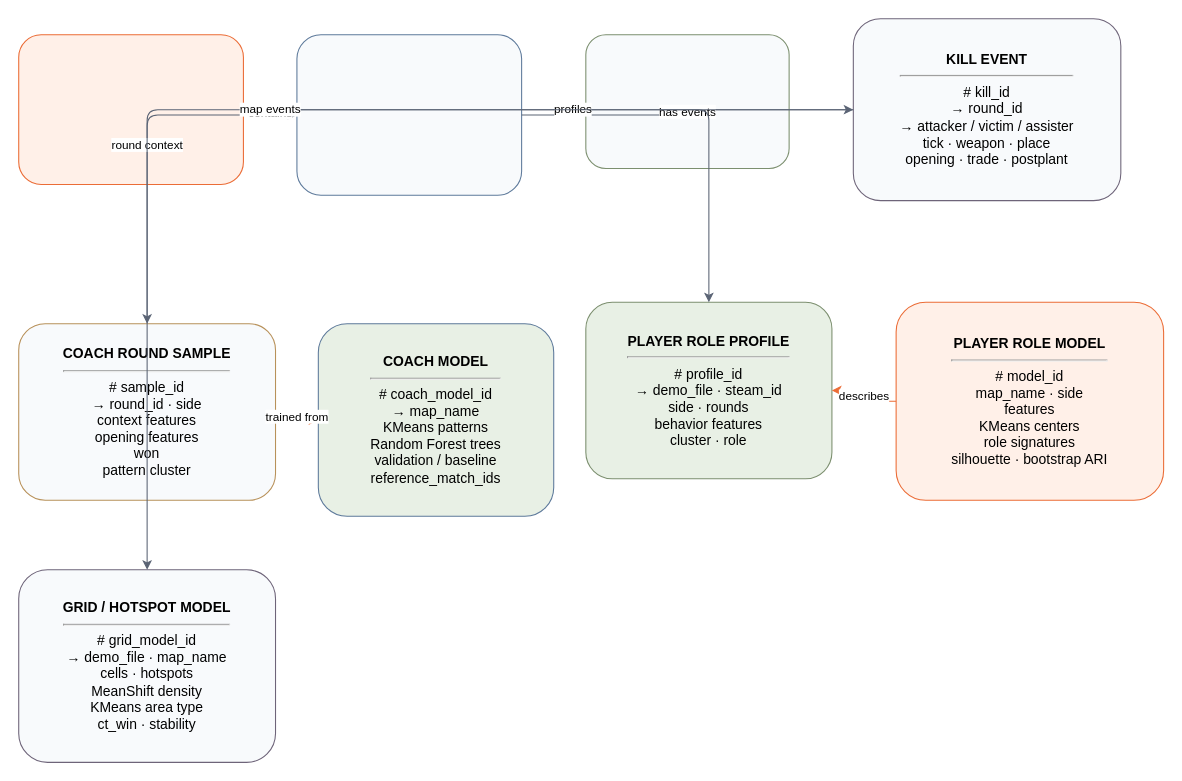
This 1182x781 diagram has some shape labels left out. Each missing label, with the box of its shape:
DEMO / MATCH # demo_file map_name source is_reference: (18, 34, 243, 185)
PLAYER # steam_id name team: (585, 34, 789, 169)
ROUND # round_id → demo_file round_num winner_side start_tick: (296, 34, 522, 195)
